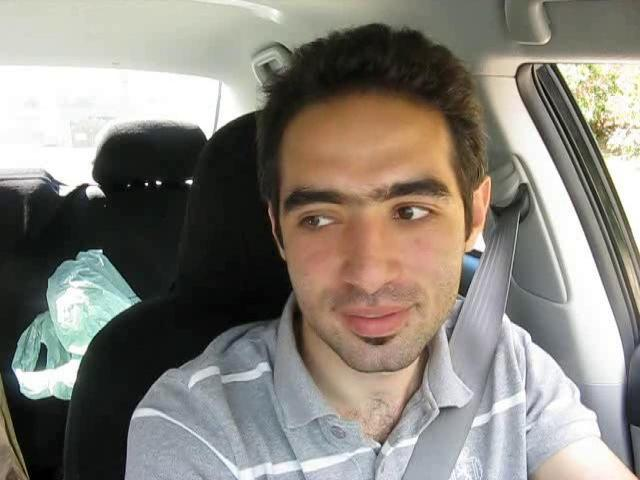eye_open: (387, 200, 444, 230), (295, 208, 342, 235)
face: (282, 158, 470, 374)
